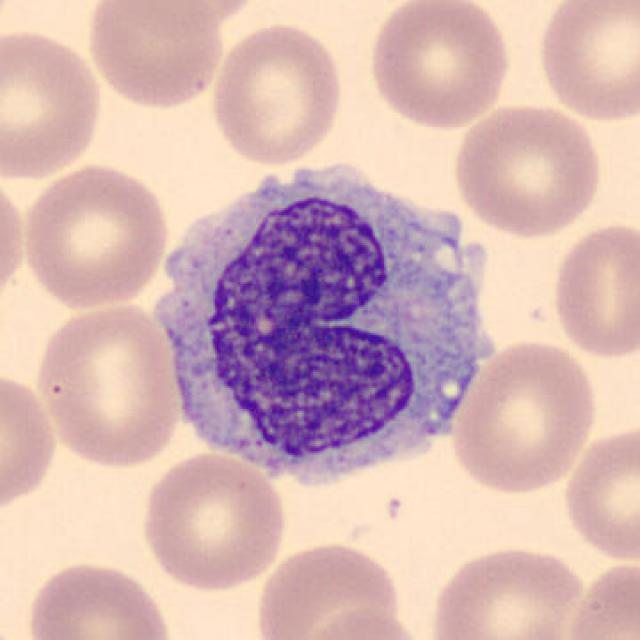Monocyte: (139, 148, 501, 490)
RBC: (32, 298, 185, 471), (448, 335, 601, 497), (18, 159, 174, 310), (448, 100, 608, 240), (137, 448, 290, 592), (206, 19, 347, 168), (364, 0, 516, 132), (0, 25, 107, 182), (81, 0, 228, 111), (251, 536, 407, 640), (425, 541, 588, 640), (532, 0, 638, 125), (23, 555, 178, 640), (548, 217, 638, 361), (558, 422, 638, 564), (0, 365, 60, 520), (562, 555, 640, 640), (296, 604, 430, 640), (119, 0, 267, 32), (0, 170, 30, 310)
